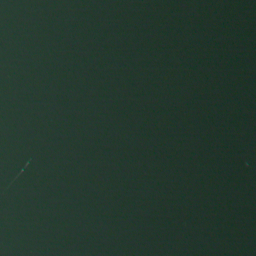sct: (1, 155, 37, 204)
